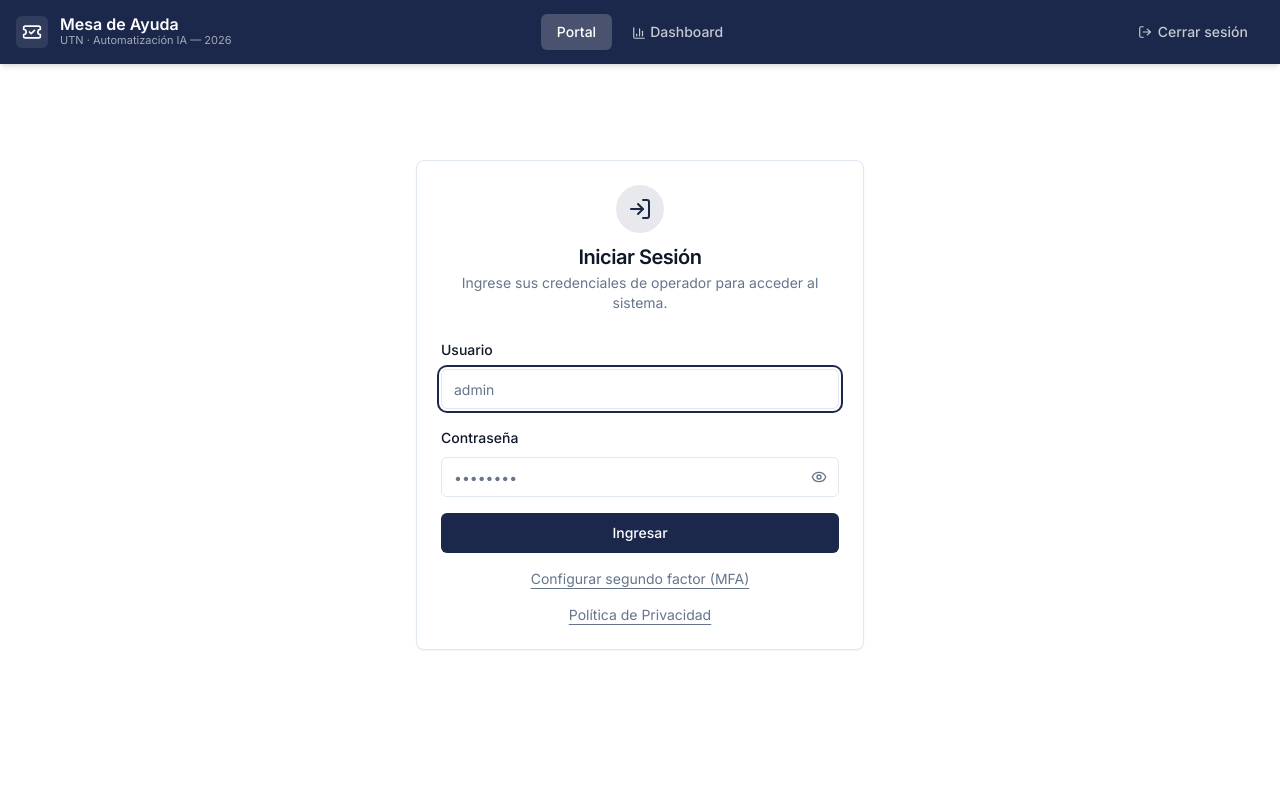
Test: LoginPage (visibilidad de contraseña, FSU-002) › al accionar de nuevo la contraseña vuelve a ocultarse
Click the button named "Mostrar contraseña".
click(819, 477)  # box [799, 457, 839, 497]
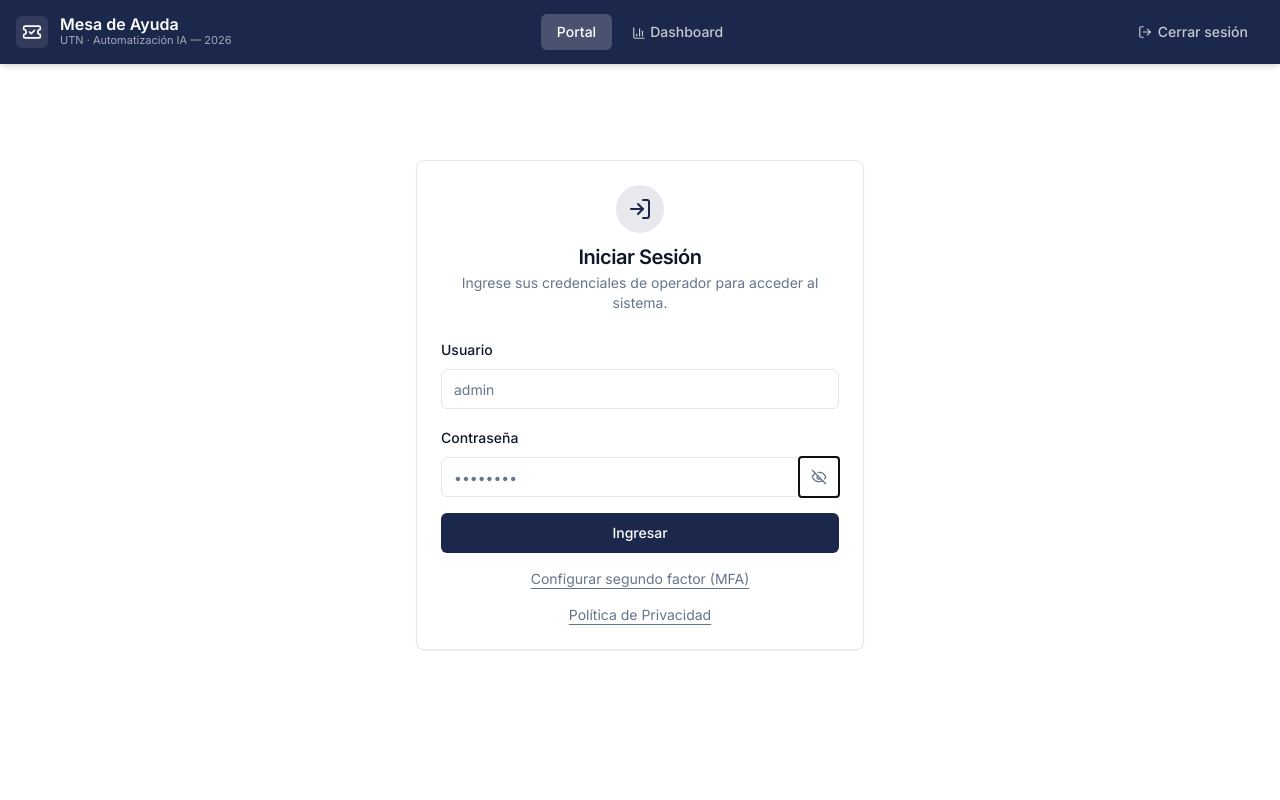
Click the button named "Ocultar contraseña".
click(819, 477)  # box [799, 457, 839, 497]
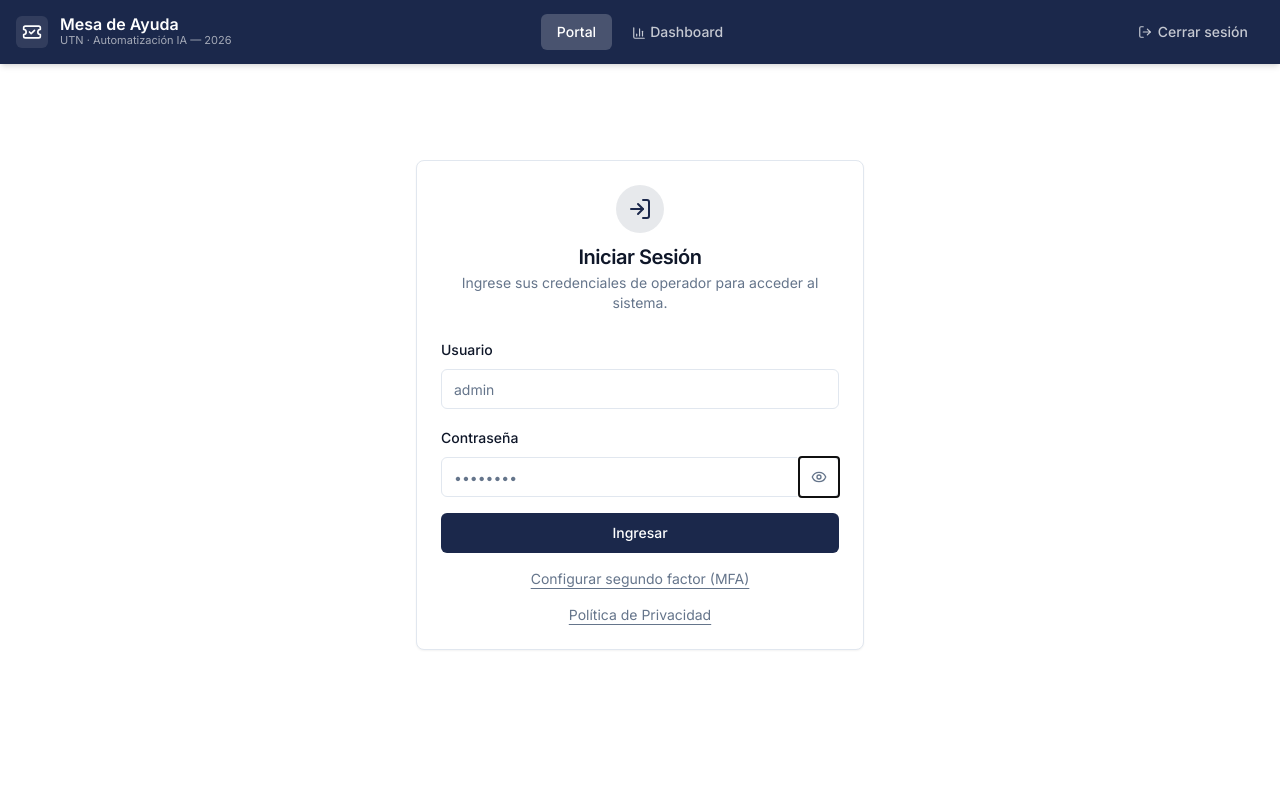
Now the button named "Mostrar contraseña" is shown, box [799, 457, 839, 497]
